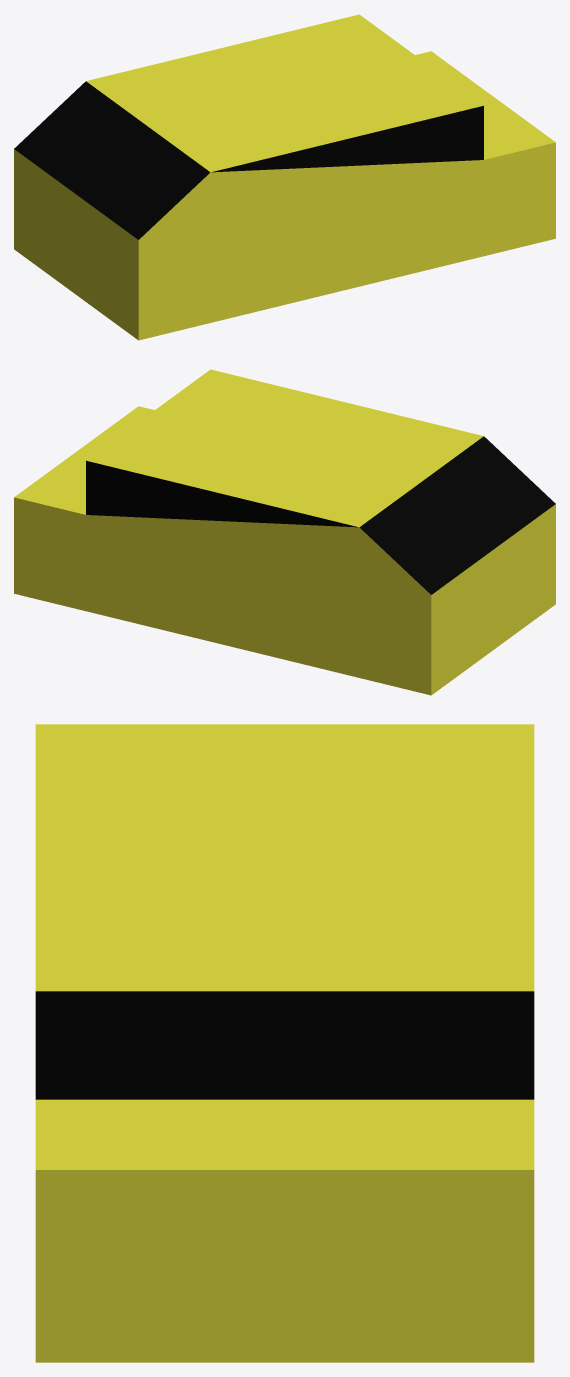
The picture shows the model from 3 angles, top to bottom: view 1: azimuth 30°, elevation 25°; view 2: azimuth 150°, elevation 25°; view 3: azimuth 270°, elevation 25°; orthographic projection. The views are drawn at different scales.
Visible parts, largest first — view 1: robot_base; view 2: robot_base; view 3: robot_base.
Boxes of the visible parts, x1,y1,x2,y2 form: robot_base: (14, 14, 555, 340); robot_base: (14, 369, 555, 695); robot_base: (35, 724, 534, 1362).
Size of the model in its own units: 0.087 by 0.045 by 0.03.
